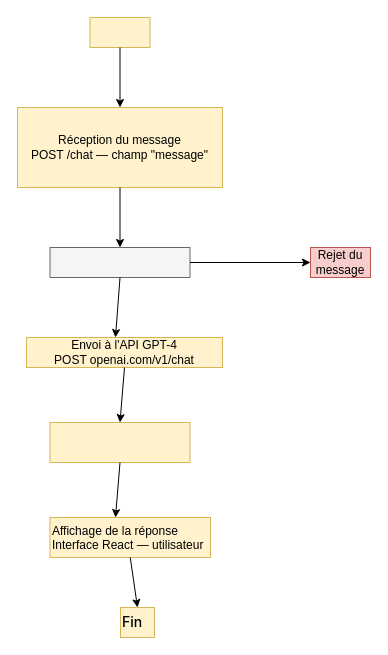
This 388x655 diagram has some shape labels left out. The box of each missing label's shape, as (x1, y1, x2, y2) in pixels:
Contient des insultes ?Filtre de modération: (49, 246, 190, 278)
Debut: (89, 16, 150, 48)
Sauvegarde Redisset Ex (last_message, 3600): (49, 422, 190, 462)
